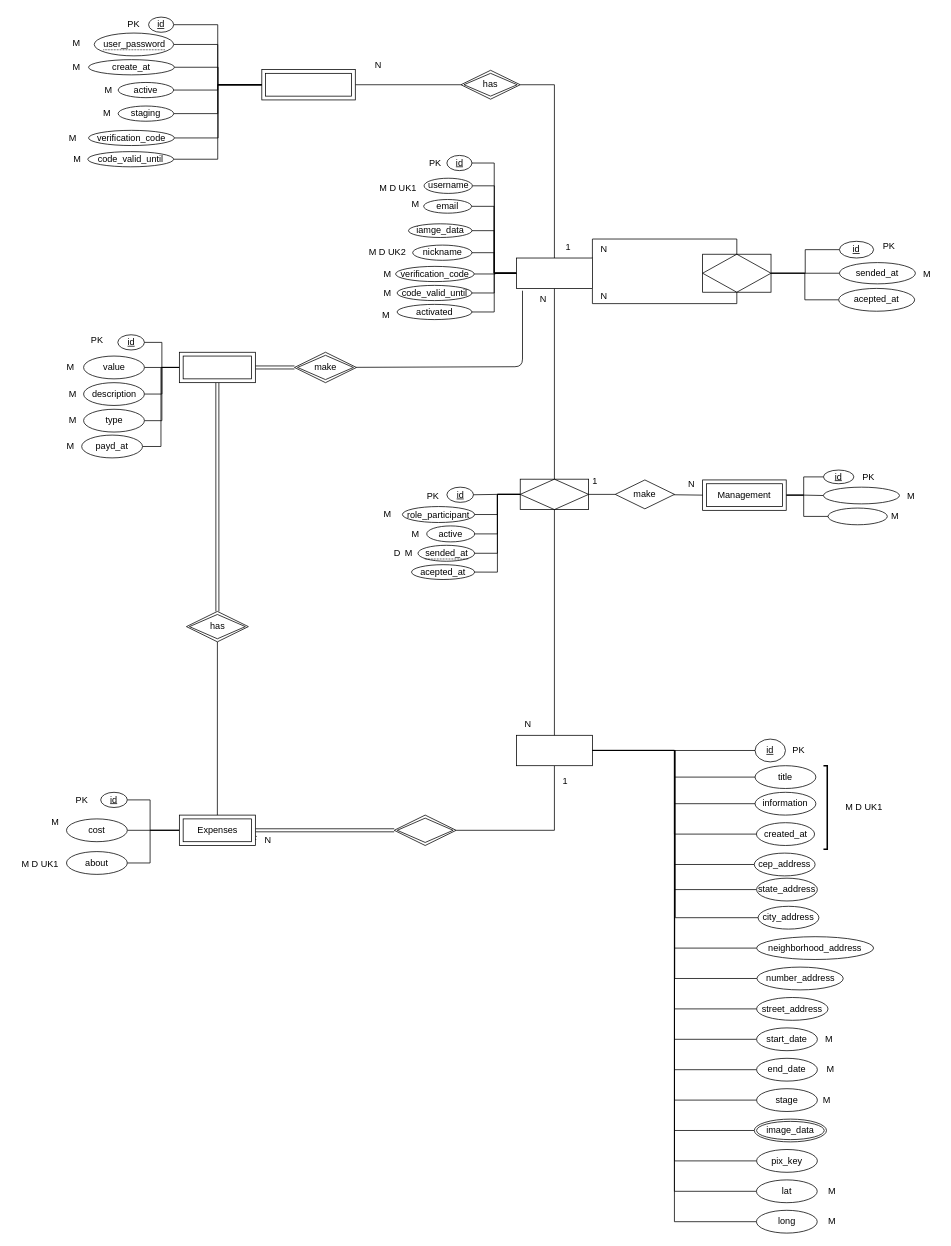
This 951x1246 diagram has some shape labels left out. Here are the shapes that lost their labels. From the top down, the centre of each, then its label:
point (308, 84): Account_password
point (554, 272): Account
point (736, 272): friend
point (217, 367): Payment
point (554, 494): Participate
point (861, 495): managment_at
point (857, 516): type_action
point (554, 750): Meetup
point (424, 830): generate
